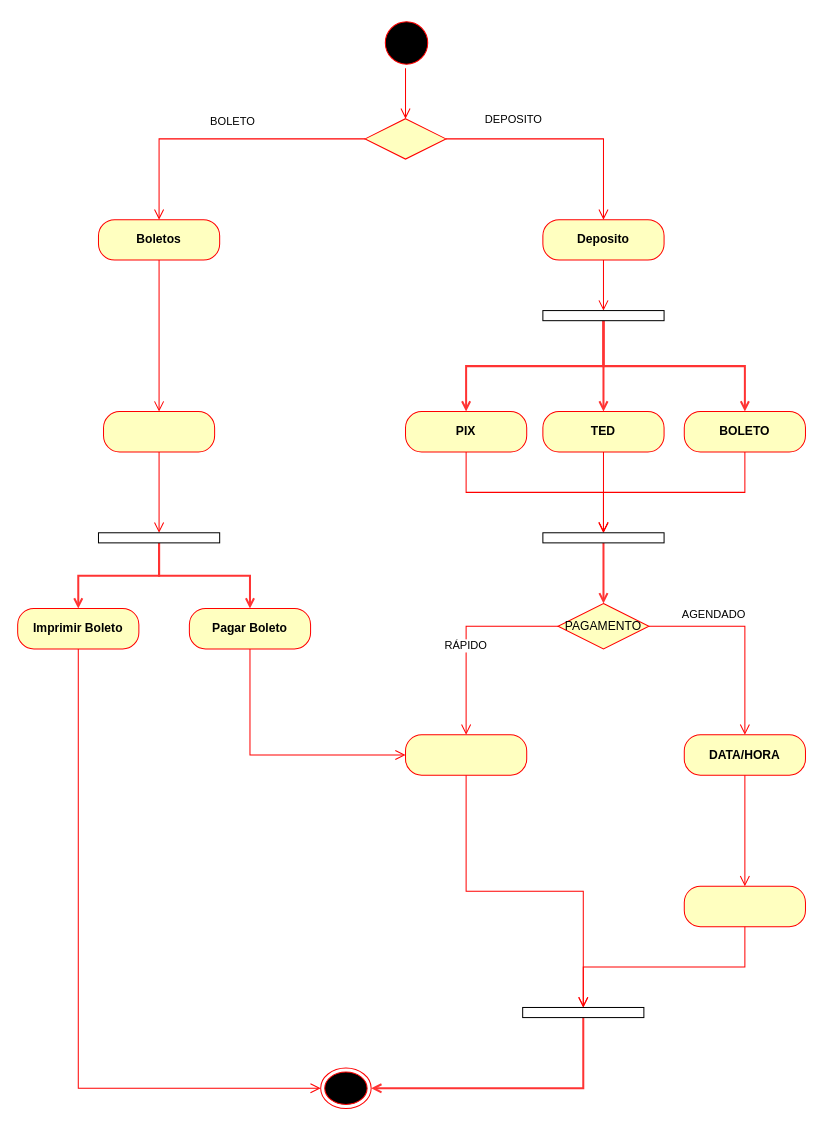
Some shapes in this 823 by 1126 pixel diagram are drawn without their labels. Each missing label, with the centre of its shape:
Condition: point 405,138
Gerar Boleto: point 159,431
Pagamento efetuado !: point 466,754
Pagamento efetuado!: point 744,906
